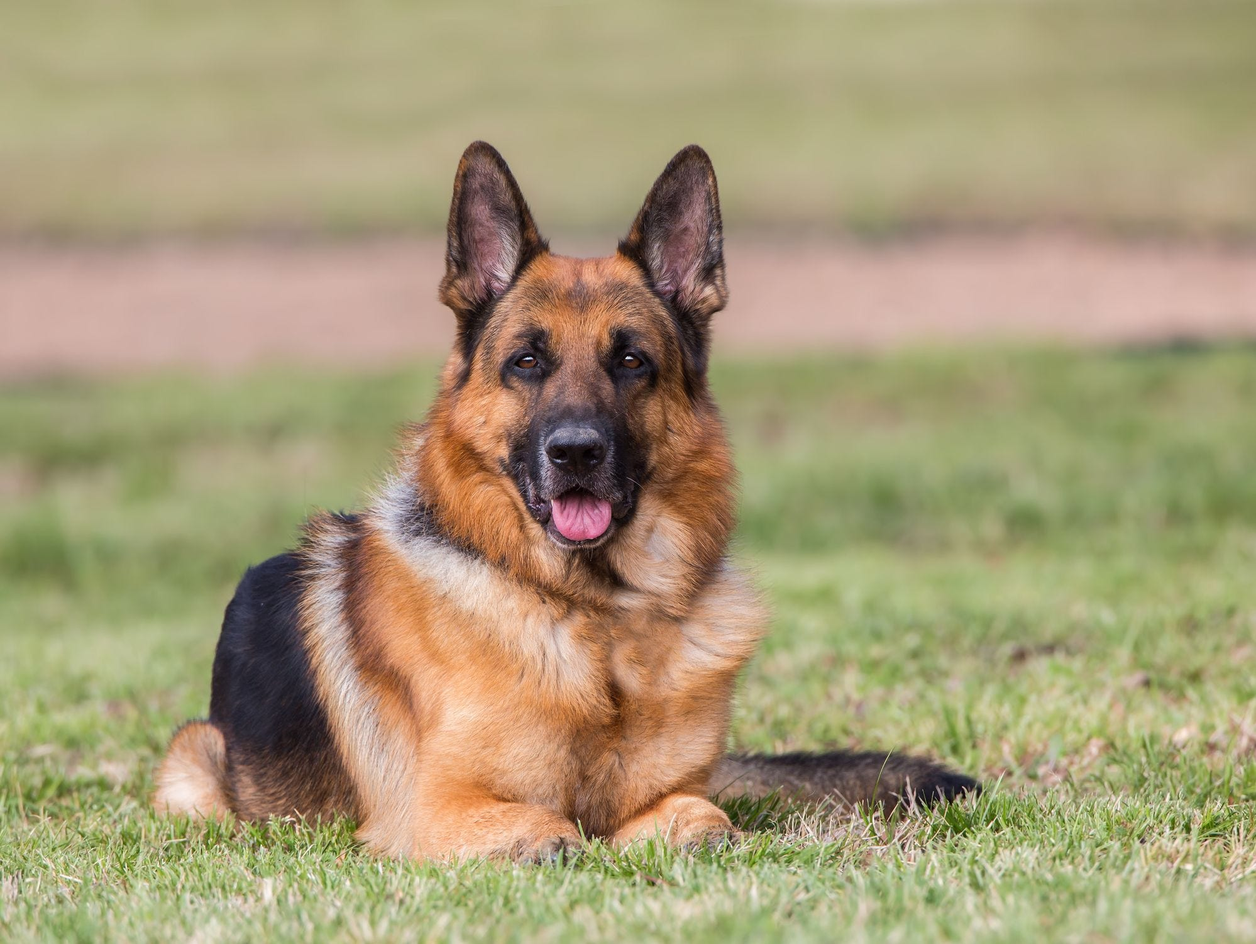Dog: (113, 131, 1033, 887)
